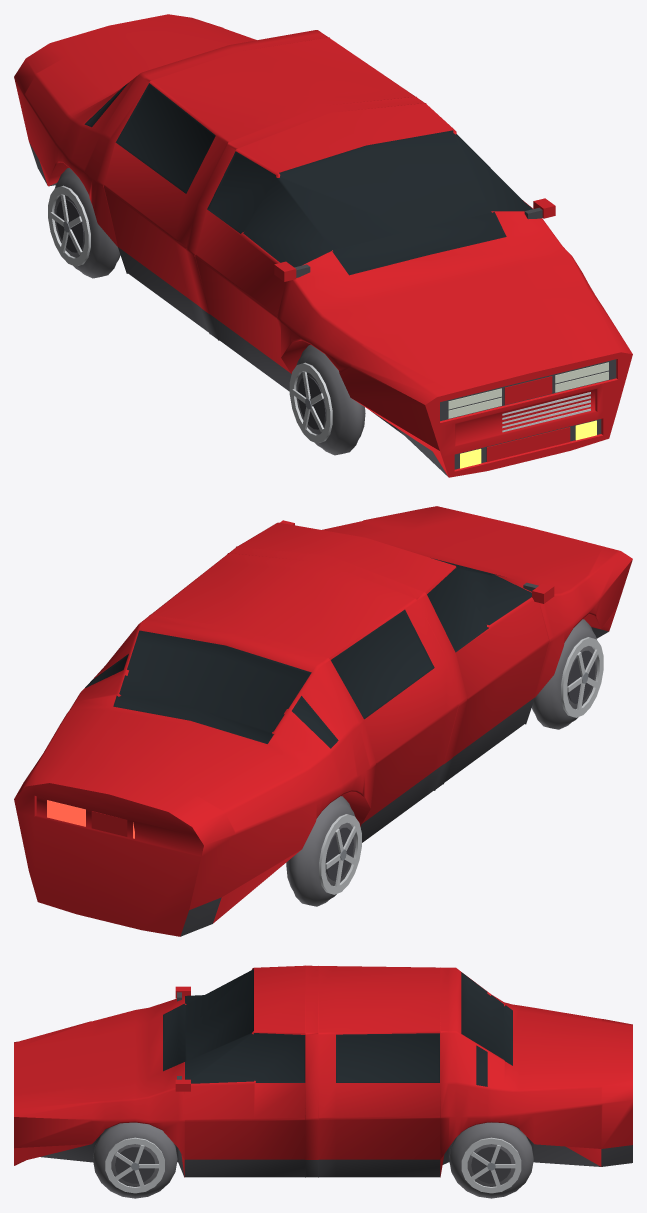
The model's file is Sedan_Mid_A_23.fbx.
The picture shows the model from 3 angles, top to bottom: view 1: azimuth 30°, elevation 25°; view 2: azimuth 150°, elevation 25°; view 3: azimuth 270°, elevation 25°; orthographic projection. The views are drawn at different scales.
Parts seen in each view (by area): view 1: LOD0; view 2: LOD0; view 3: LOD0.
Boxes of the visible parts, bbox=[...] form: LOD0: bbox=[14, 14, 632, 477]; LOD0: bbox=[14, 506, 632, 936]; LOD0: bbox=[14, 965, 632, 1198].
Size of what is drawn, in the model's own units: 187 by 145 by 490.
